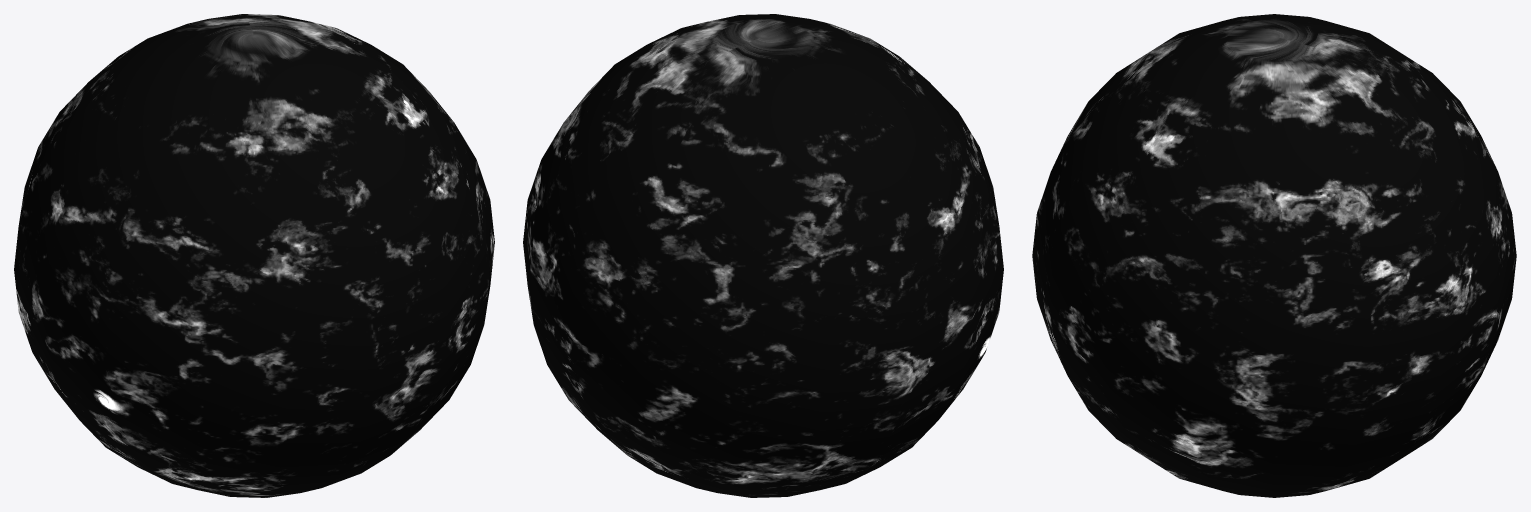
File: kepler-452b.glb
3 renders of one model, left to right at view 1: azimuth 30°, elevation 25°; view 2: azimuth 150°, elevation 25°; view 3: azimuth 270°, elevation 25°, orthographic.
Size of the model in its own units: 207 by 207 by 207.
Materials: 2 (2 with a texture image).
